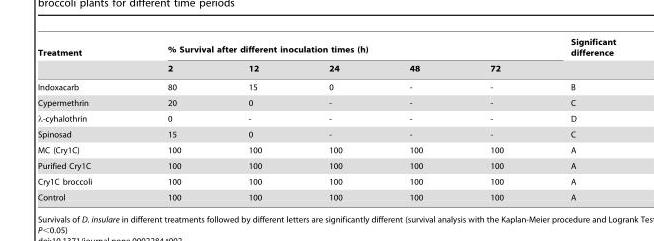table: (37, 37, 615, 201)
table column: (37, 37, 129, 201), (129, 37, 214, 201), (294, 37, 375, 201), (455, 37, 536, 201), (214, 37, 294, 201), (375, 37, 455, 201), (536, 37, 615, 201)
table column header: (37, 37, 615, 77)
table row: (37, 37, 615, 60), (37, 60, 615, 77), (37, 77, 615, 94), (37, 94, 615, 110), (37, 110, 615, 126), (37, 126, 615, 142), (37, 157, 615, 173), (37, 173, 615, 189), (37, 142, 615, 157), (37, 189, 615, 201)
table spanning cell: (129, 37, 536, 60), (37, 37, 129, 77), (536, 37, 615, 77)
